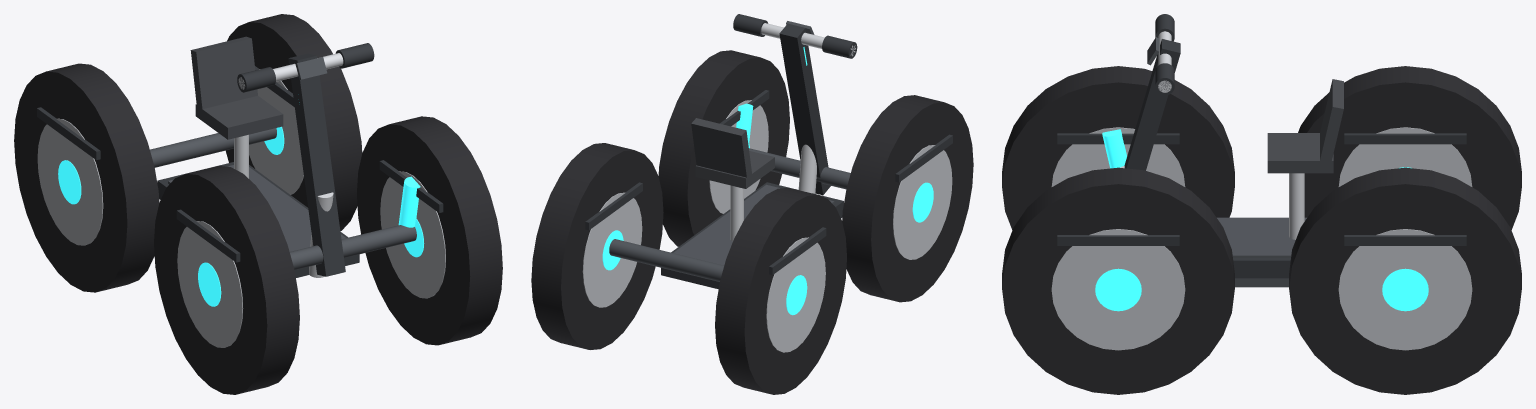
File: mia-four-x4.glb
3 views of the same model, side by side, from view 1: azimuth 30°, elevation 25°; view 2: azimuth 150°, elevation 25°; view 3: azimuth 270°, elevation 25° (orthographic). The views are drawn at different scales.
Parts seen in each view (by area): view 1: fr-tire, rr-tire, fl-tire, rl-tire, stem, rr-rim, fr-rim, fl-rim, seat-back, rl-rim, seat-base, deck-grip (+14 smaller); view 2: rr-tire, fr-tire, rl-tire, fl-tire, rr-rim, fr-rim, rl-rim, stem, seat-back, axle-rear, deck-grip, fl-rim (+16 smaller); view 3: fl-tire, rl-tire, fr-tire, rr-tire, fl-rim, rl-rim, rr-rim, fr-rim, deck-grip, stem, seat-base, fl-hub (+11 smaller).
Boxes of the visible parts, x1,y1,x2,y2 form: fr-tire: (154, 166, 299, 394); rr-tire: (14, 63, 159, 292); fl-tire: (357, 116, 502, 345); rl-tire: (226, 14, 362, 230); stem: (288, 53, 345, 276); rr-rim: (37, 118, 103, 245); fr-rim: (177, 221, 243, 347); fl-rim: (380, 171, 445, 298); seat-back: (190, 36, 257, 109); rl-rim: (249, 69, 303, 194); seat-base: (195, 96, 283, 139); deck-grip: (168, 165, 345, 251); rr-tire: (715, 187, 846, 394); fr-tire: (842, 95, 973, 302); rl-tire: (531, 143, 663, 349); fl-tire: (658, 50, 789, 246); rr-rim: (766, 237, 825, 352); fr-rim: (893, 145, 952, 259); rl-rim: (582, 192, 642, 307); stem: (779, 23, 830, 195); seat-back: (691, 118, 751, 179); axle-rear: (609, 239, 723, 281); deck-grip: (673, 184, 834, 265); fl-rim: (709, 100, 768, 213); fl-tire: (1002, 167, 1234, 394); rl-tire: (1289, 167, 1521, 394); fr-tire: (1002, 66, 1234, 229); rr-tire: (1298, 66, 1521, 229); fl-rim: (1051, 229, 1185, 350); rl-rim: (1338, 229, 1472, 350); rr-rim: (1338, 127, 1472, 186); fr-rim: (1051, 127, 1185, 186); deck-grip: (1217, 217, 1306, 257); stem: (1124, 39, 1180, 170); seat-base: (1267, 133, 1333, 173); fl-hub: (1095, 268, 1141, 311).
Bounding box in the file's own units: 1.49 × 1.66 × 2.68.
